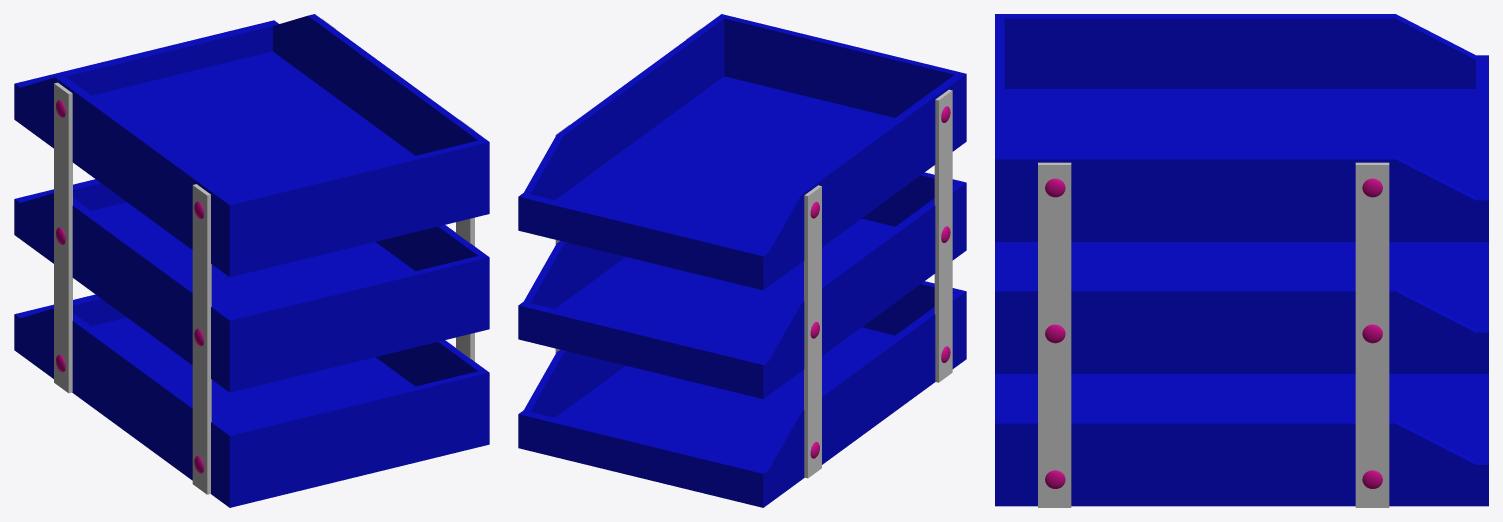
The model's file is archivadores_UVS.fbx.
3 views of the same model, side by side, from view 1: azimuth 30°, elevation 25°; view 2: azimuth 150°, elevation 25°; view 3: azimuth 270°, elevation 25° (orthographic). The views are drawn at different scales.
Visible parts, largest first — view 1: Separador, Cube.004, Cube.003, Cube.002; view 2: Separador, Cube.004, Cube.003; view 3: Separador, Cube, Cube.002.
Boxes of the visible parts, x1=… form: Separador: x1=14, y1=14, x2=489, y2=507; Cube.004: x1=192, y1=184, x2=211, y2=494; Cube.003: x1=54, y1=82, x2=72, y2=393; Cube.002: x1=456, y1=119, x2=474, y2=361; Separador: x1=518, y1=14, x2=966, y2=507; Cube.004: x1=934, y1=89, x2=952, y2=382; Cube.003: x1=804, y1=185, x2=821, y2=478; Separador: x1=995, y1=14, x2=1488, y2=506; Cube: x1=1355, y1=162, x2=1389, y2=507; Cube.002: x1=1038, y1=162, x2=1071, y2=507.
Bounding box in the file's own units: 450 × 476 × 614.
